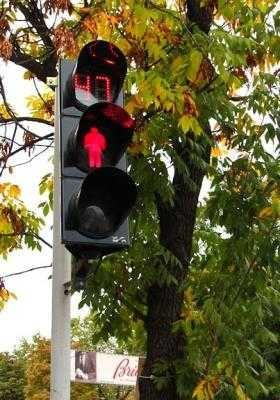red: (65, 110, 127, 242), (69, 113, 129, 176)
